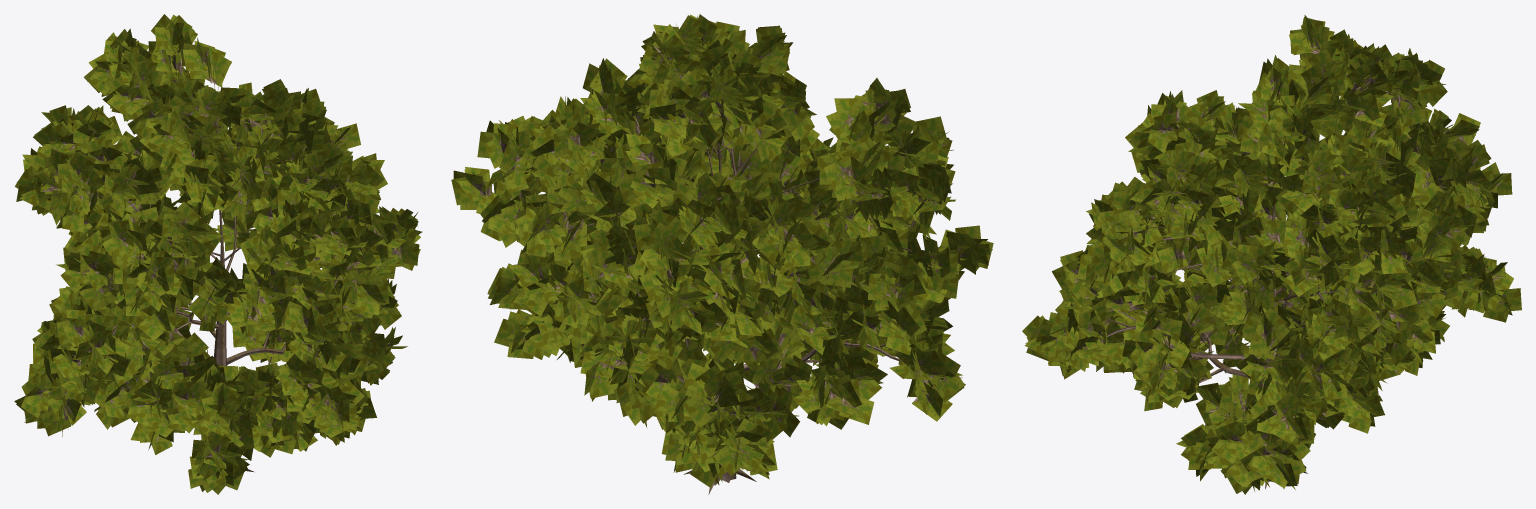
The model's file is maple-green-balanced.gltf.
3 views of the same model, side by side, from view 1: azimuth 30°, elevation 25°; view 2: azimuth 150°, elevation 25°; view 3: azimuth 270°, elevation 25° (orthographic). The views are drawn at different scales.
Visible parts, largest first — view 1: Sugar Maple balanced Green; view 2: Sugar Maple balanced Green; view 3: Sugar Maple balanced Green.
Part boxes in pixels (box(x1,y1,x2,y2)): Sugar Maple balanced Green: box(14, 14, 422, 494); Sugar Maple balanced Green: box(451, 14, 993, 494); Sugar Maple balanced Green: box(1022, 15, 1521, 494).
Bounding box in the file's own units: 949 × 953 × 998.
2 materials, 2 textured.
